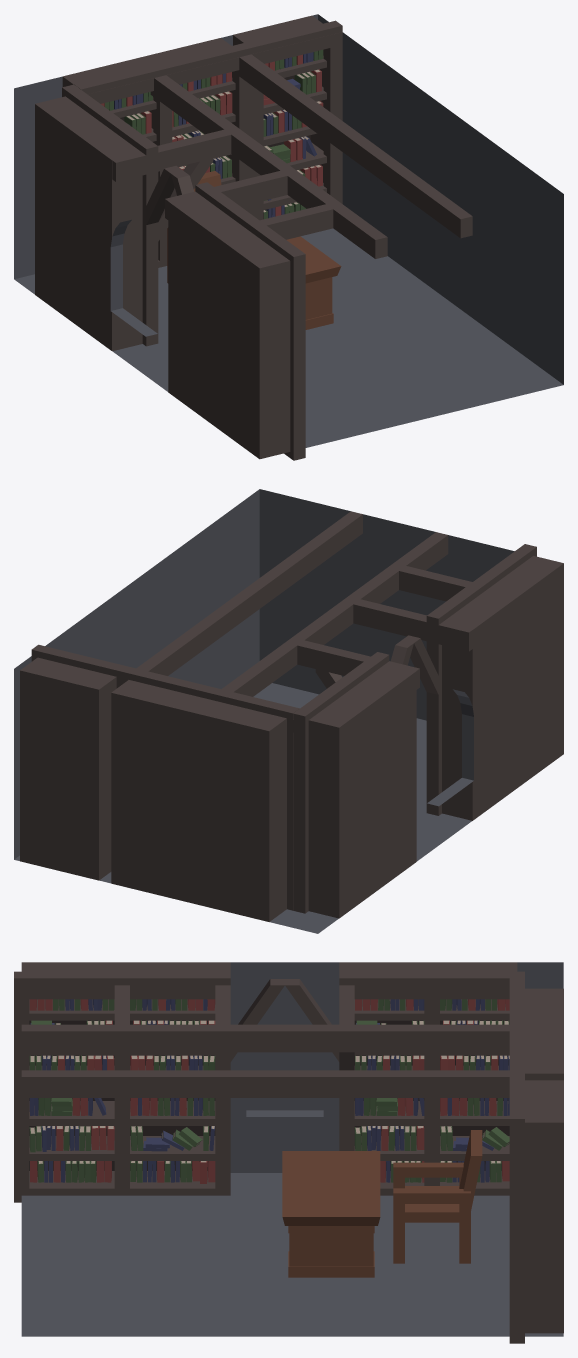
File: study_alcove.gltf
3 views of the same model, one above another, from view 1: azimuth 30°, elevation 25°; view 2: azimuth 150°, elevation 25°; view 3: azimuth 270°, elevation 25° (orthographic). The views are drawn at different scales.
Parts seen in each view (by area): view 1: Shelves, Walls, CeilingBars, ___DoorwayCover0, Table; view 2: Shelves, Walls, CeilingBars, ___DoorwayCover1, ___DoorwayCover0; view 3: Shelves, Walls, CeilingBars, Table, Chair.
Boxes of the visible parts, left/top/right/bottom form: Shelves: left=35, top=15, right=342, bottom=460; Walls: left=14, top=14, right=563, bottom=447; CeilingBars: left=62, top=32, right=472, bottom=258; ___DoorwayCover0: left=353, top=40, right=458, bottom=307; Table: left=286, top=236, right=341, bottom=329; Shelves: left=20, top=544, right=563, bottom=921; Walls: left=14, top=489, right=514, bottom=933; CeilingBars: left=33, top=511, right=520, bottom=735; ___DoorwayCover1: left=320, top=504, right=502, bottom=720; ___DoorwayCover0: left=49, top=566, right=154, bottom=668; Shelves: left=14, top=962, right=563, bottom=1343; Walls: left=21, top=962, right=563, bottom=1336; CeilingBars: left=21, top=962, right=521, bottom=1133; Table: left=282, top=1151, right=380, bottom=1277; Chair: left=393, top=1130, right=482, bottom=1263.
Bounding box in the file's own units: 5.2 × 3.2 × 7.1.
Materials: 2 (2 with a texture image).
